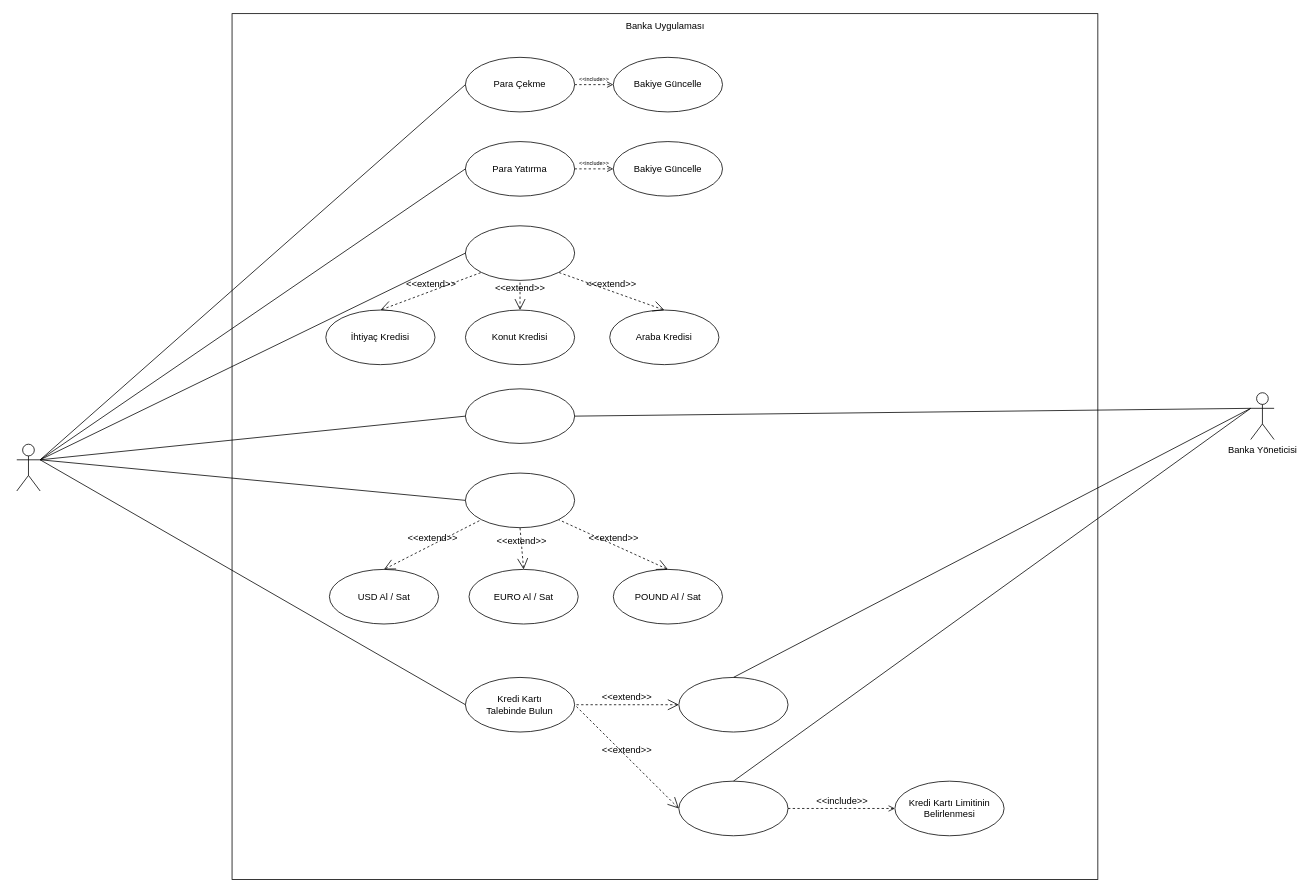
Image size: 1310x893. Some labels were removed from this diagram. Here are the shapes that lost their labels. From the top down, the centre of each, then its label:
the point at 520,252: Kredi Çek
the point at 520,415: Hesap Bakiyesini Görüntüle
the point at 28,467: Müşteri
the point at 520,500: Döviz Al / Sat
the point at 733,704: Talebin Reddedilmesi
the point at 733,808: Talebin Onaylanması
